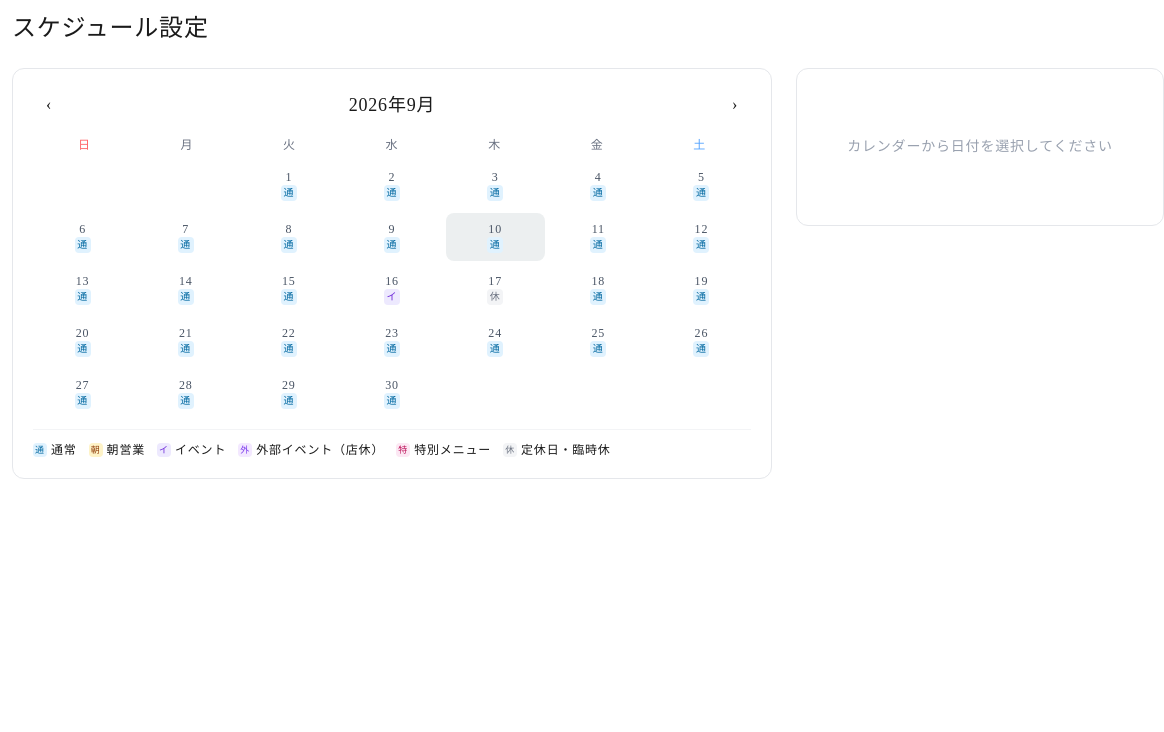
Test: ScheduleCalendar › 保存すると API に日付・種別・提供数・イベント情報を渡し、結果をパネルとカレンダーに反映する
The image size is (1164, 732).
Click the button "15 通" at (289, 289), box x1=239 y1=265 x2=338 y2=313
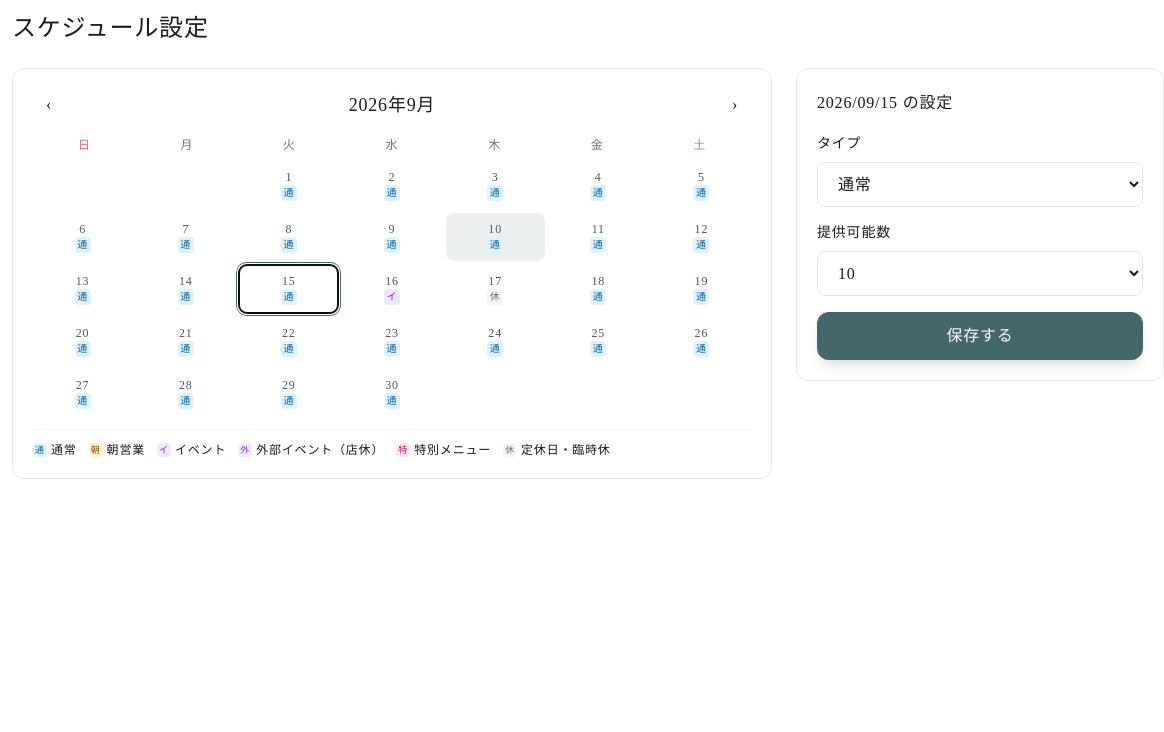
Select "イベント" in the dropdown showing "通常" below "タイプ" at (980, 184), box x1=817 y1=162 x2=1143 y2=207
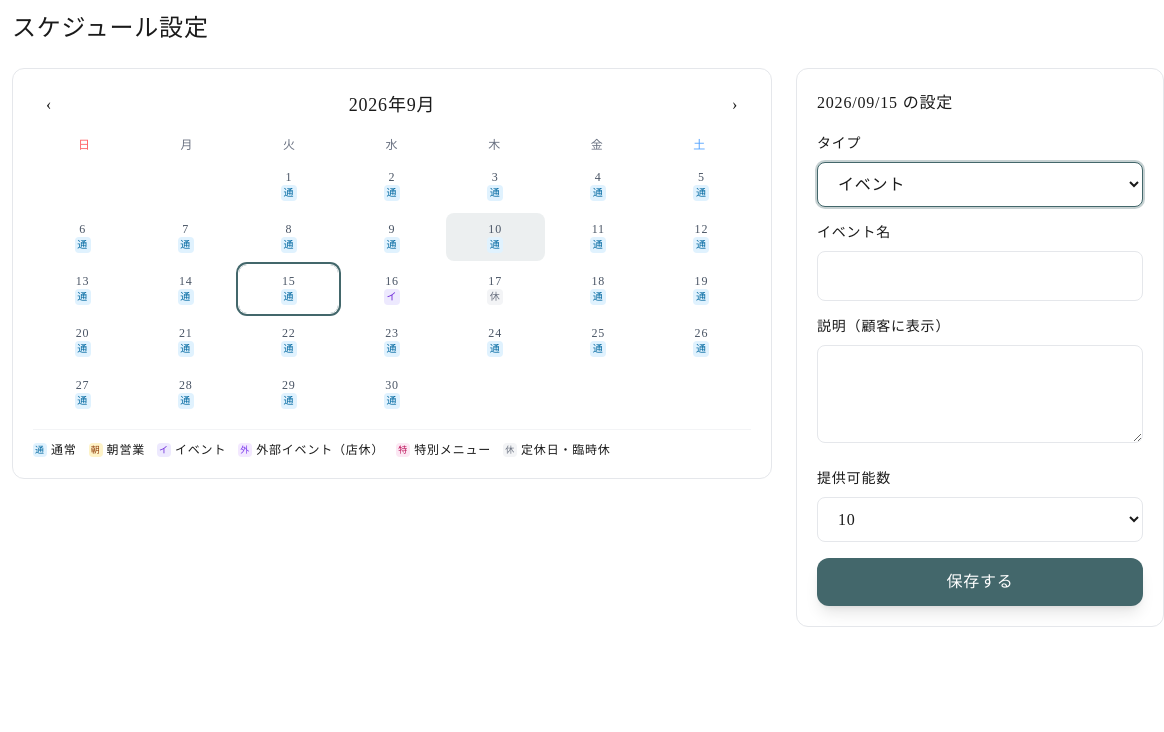
Type "限定ランチ" into the field at (980, 276), box x1=817 y1=251 x2=1143 y2=301
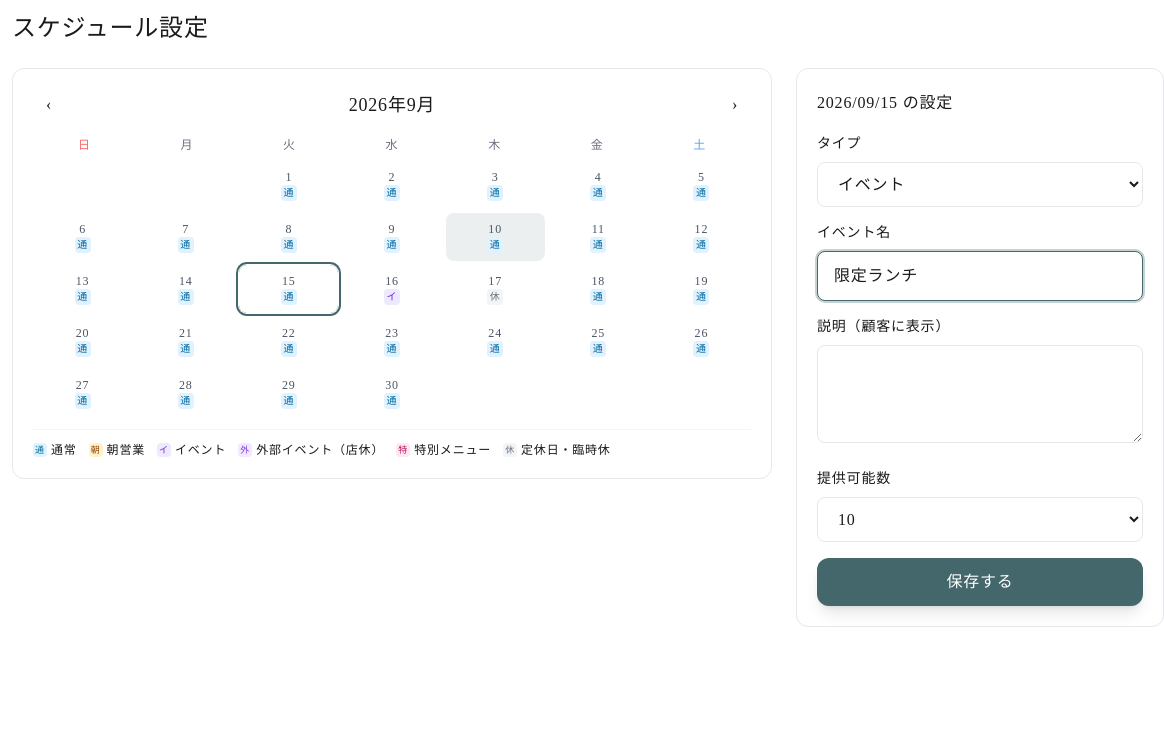
Type "説明文" into the text box at (980, 394), box x1=817 y1=345 x2=1143 y2=443
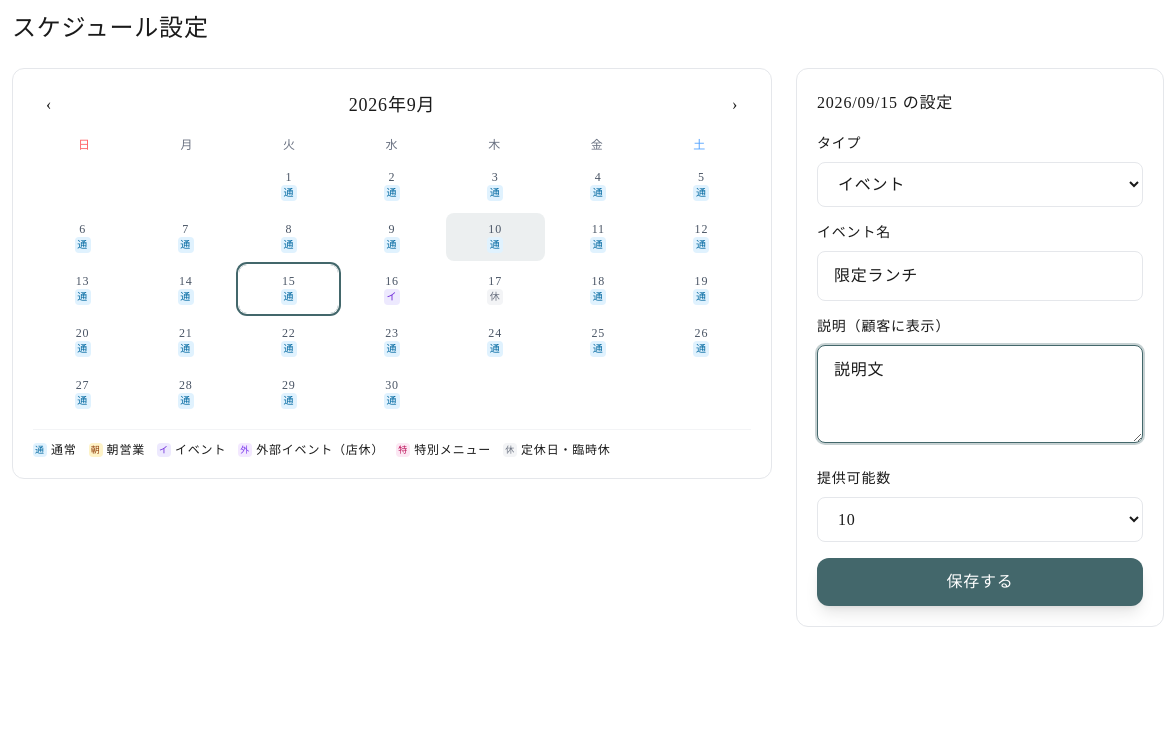
Select "6" in the dropdown showing "10" below "提供可能数" at (980, 519), box x1=817 y1=497 x2=1143 y2=542
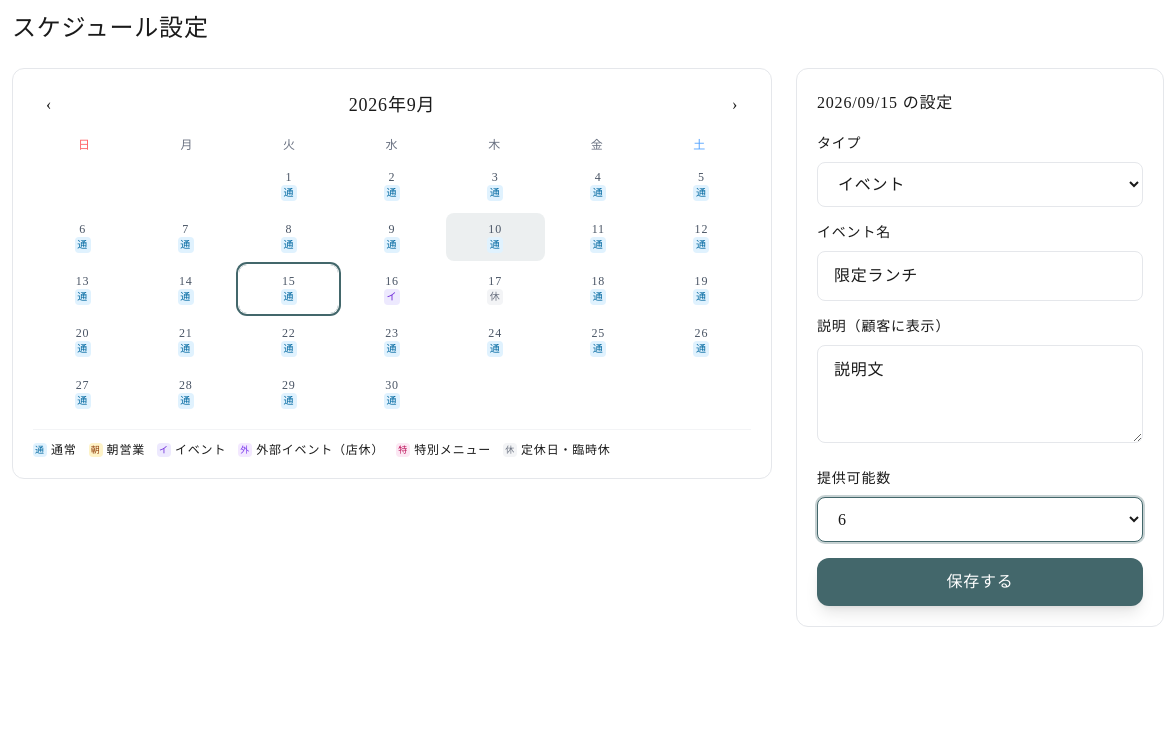
Click the button "保存する" at (980, 582), box x1=817 y1=558 x2=1143 y2=606
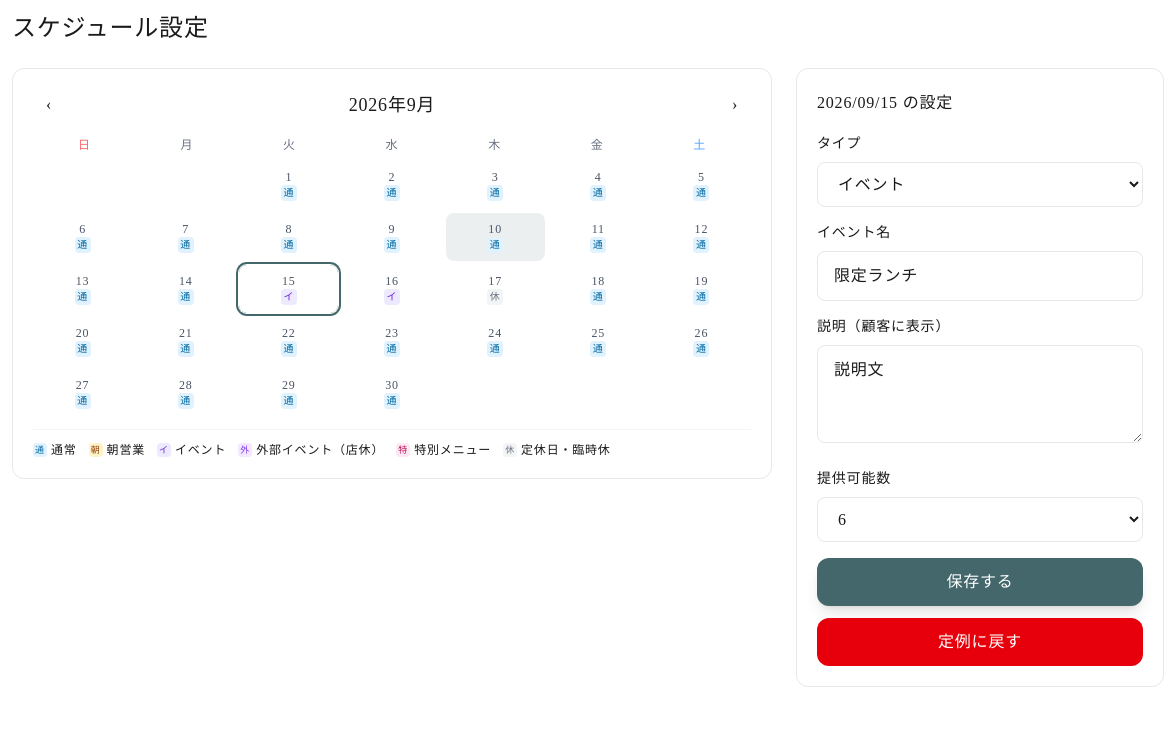
Check: the button "定例に戻す" is shown, box x1=817 y1=618 x2=1143 y2=666
Check: the 1st text "イ" is shown, box x1=281 y1=289 x2=297 y2=305
